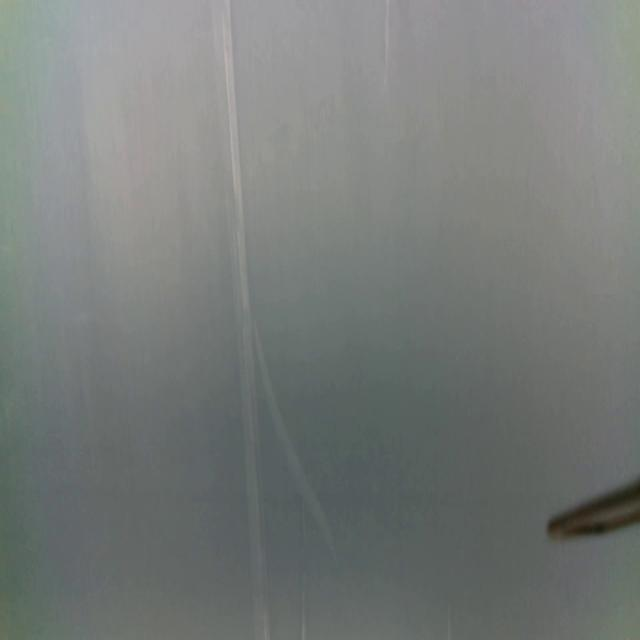crease: (218, 0, 272, 640), (254, 314, 339, 565), (298, 512, 308, 640), (383, 0, 391, 95)
